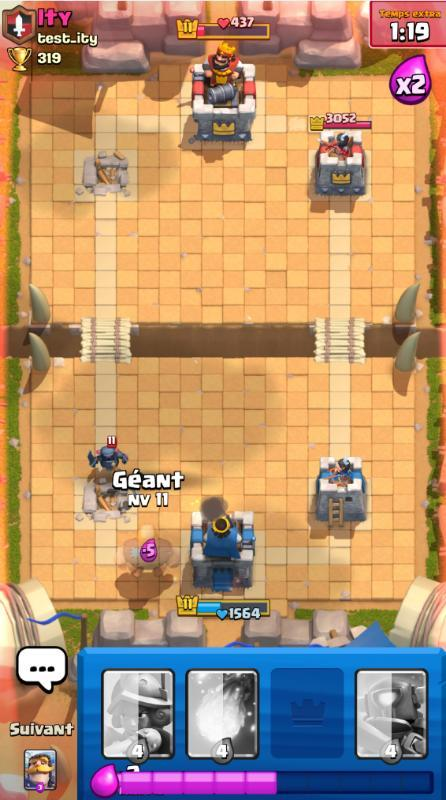geant: (113, 524, 181, 579)
mini_PEKKA: (87, 434, 129, 470)
